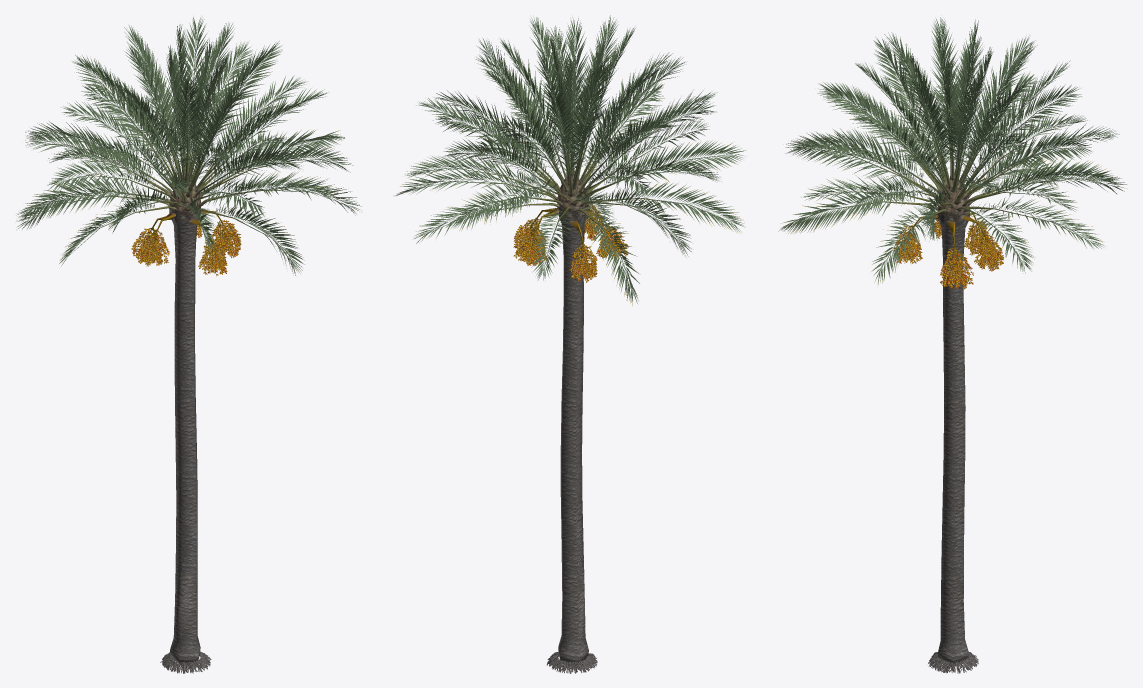
Rendered from Phoenix dactylifera HD_Urban mat 75_LOD4.fbx.
3 renders of one model, left to right at view 1: azimuth 30°, elevation 25°; view 2: azimuth 150°, elevation 25°; view 3: azimuth 270°, elevation 25°, orthographic.
Visible parts, largest first — view 1: Phoenix_dactylifera_HD; view 2: Phoenix_dactylifera_HD; view 3: Phoenix_dactylifera_HD.
Part boxes in pixels (x1,y1,x2,y2): Phoenix_dactylifera_HD: (16, 17, 360, 673); Phoenix_dactylifera_HD: (395, 15, 746, 673); Phoenix_dactylifera_HD: (778, 17, 1126, 673).
Size of the model in its own units: 6.99 by 13.93 by 7.08.
Materials: 10 (10 with a texture image).
